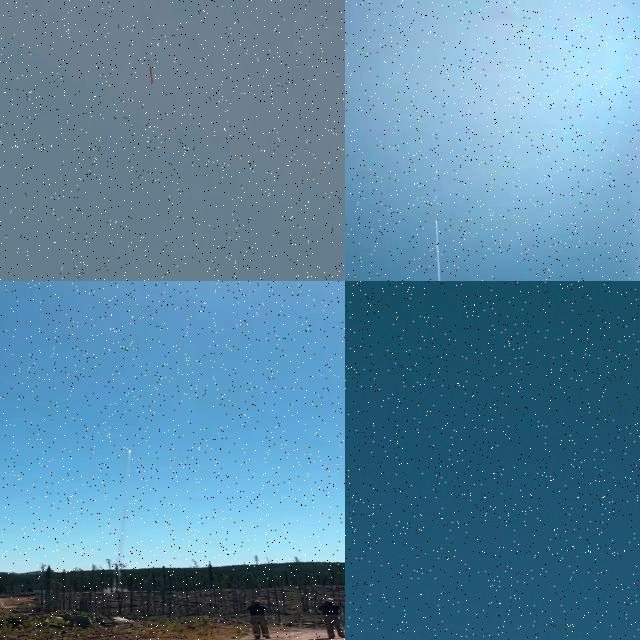Rocket: (148, 65, 154, 84), (127, 446, 132, 454), (435, 218, 438, 221)
